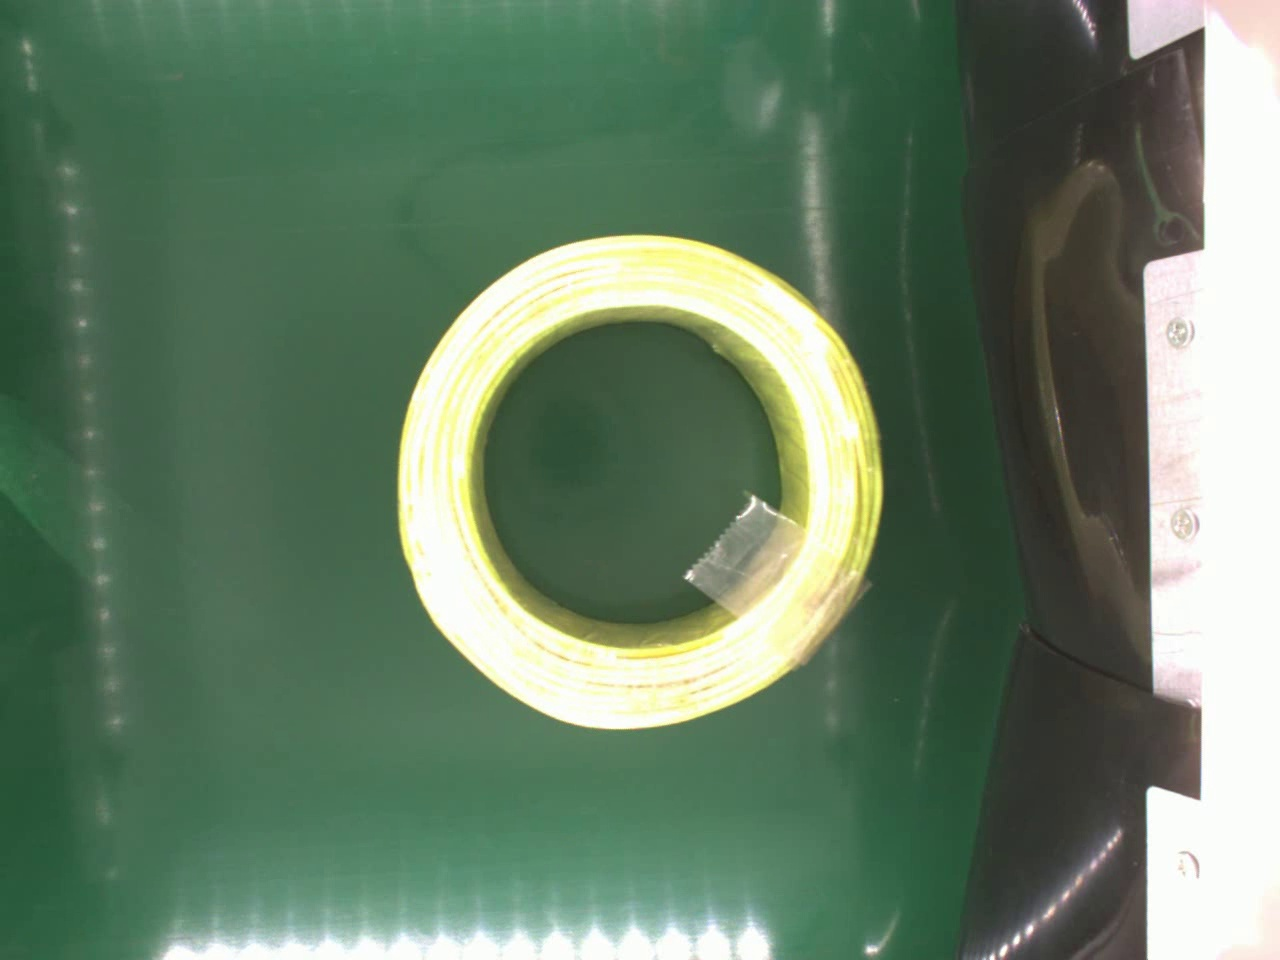yellow: (390, 222, 888, 726)
